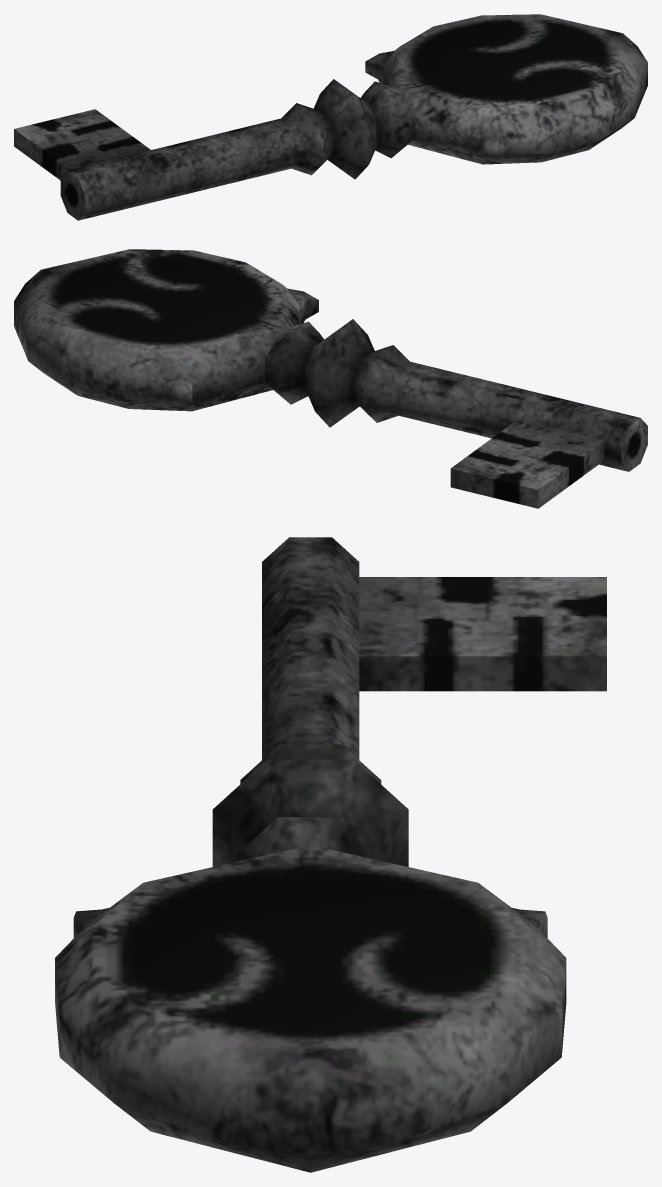
File: key_torture_chamber.dae
3 views of the same model, one above another, from view 1: azimuth 30°, elevation 25°; view 2: azimuth 150°, elevation 25°; view 3: azimuth 270°, elevation 25° (orthographic). The views are drawn at different scales.
Parts seen in each view (by area): view 1: key_torture_chamber1; view 2: key_torture_chamber1; view 3: key_torture_chamber1.
Part boxes in pixels (left/top/right/bottom): key_torture_chamber1: left=14, top=14, right=647, bottom=220; key_torture_chamber1: left=14, top=249, right=647, bottom=508; key_torture_chamber1: left=55, top=537, right=606, bottom=1172.
Bounding box in the file's own units: 0.212 × 0.0305 × 0.0896.
